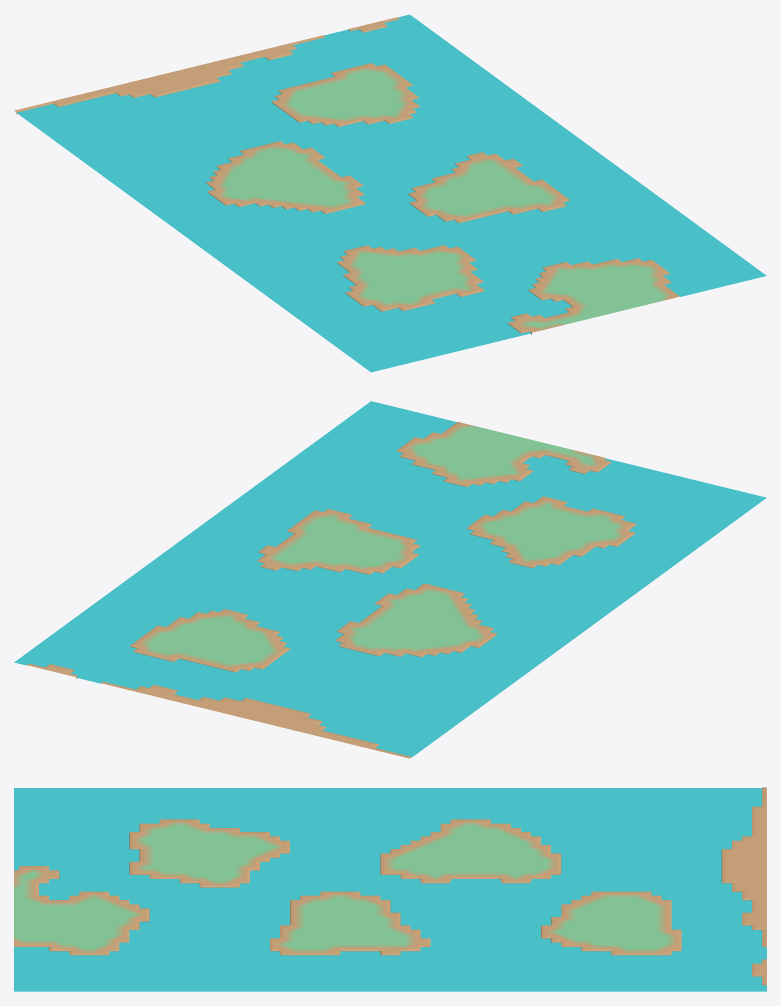
File: Terrain Mesh Optimized.glb
The picture shows the model from 3 angles, top to bottom: view 1: azimuth 30°, elevation 25°; view 2: azimuth 150°, elevation 25°; view 3: azimuth 270°, elevation 25°; orthographic projection. The views are drawn at different scales.
Visible parts, largest first — view 1: square_sand_waterInnerCorner2; view 2: square_sand_waterInnerCorner2; view 3: square_sand_waterInnerCorner2.
Boxes of the visible parts, <box> form: square_sand_waterInnerCorner2: <box>14,14,766,372</box>; square_sand_waterInnerCorner2: <box>14,401,766,758</box>; square_sand_waterInnerCorner2: <box>14,787,766,991</box>.
Size of the model in its own units: 96 by 0.4588 by 150.
4 materials, 1 textured.
